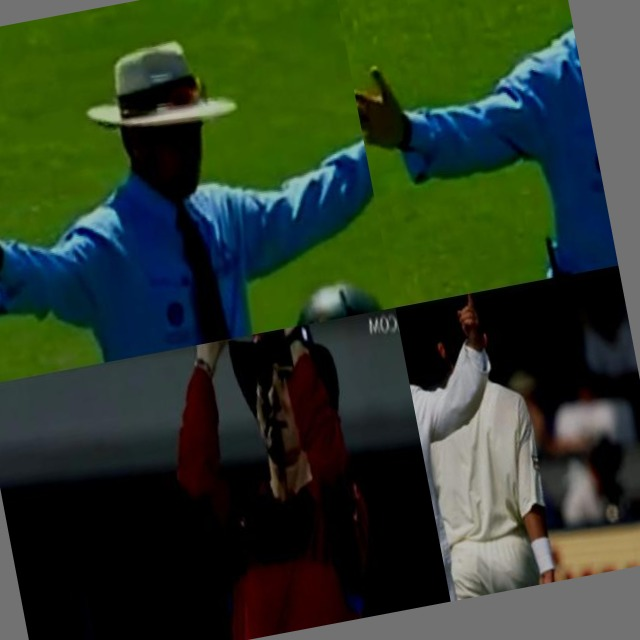No_Ball: (330, 0, 618, 308)
Out: (395, 283, 582, 601)
Six: (104, 315, 413, 640)
Wide: (0, 0, 395, 386)
